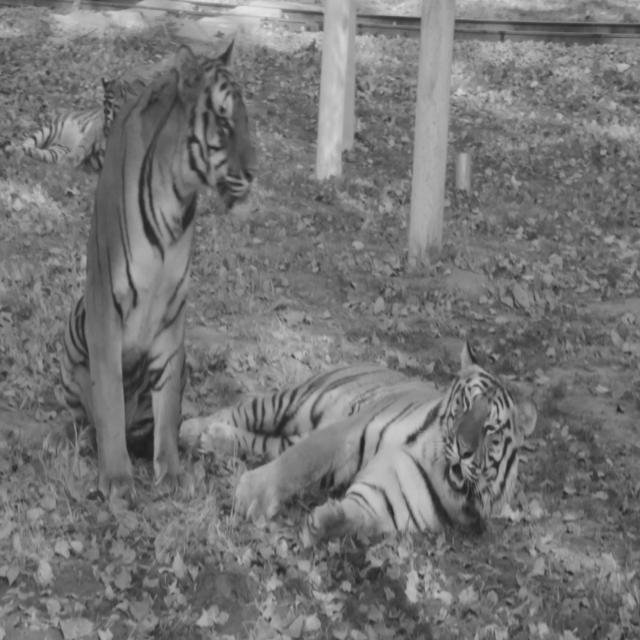Tiger: (42, 35, 259, 508), (178, 338, 538, 550), (13, 74, 144, 172)
